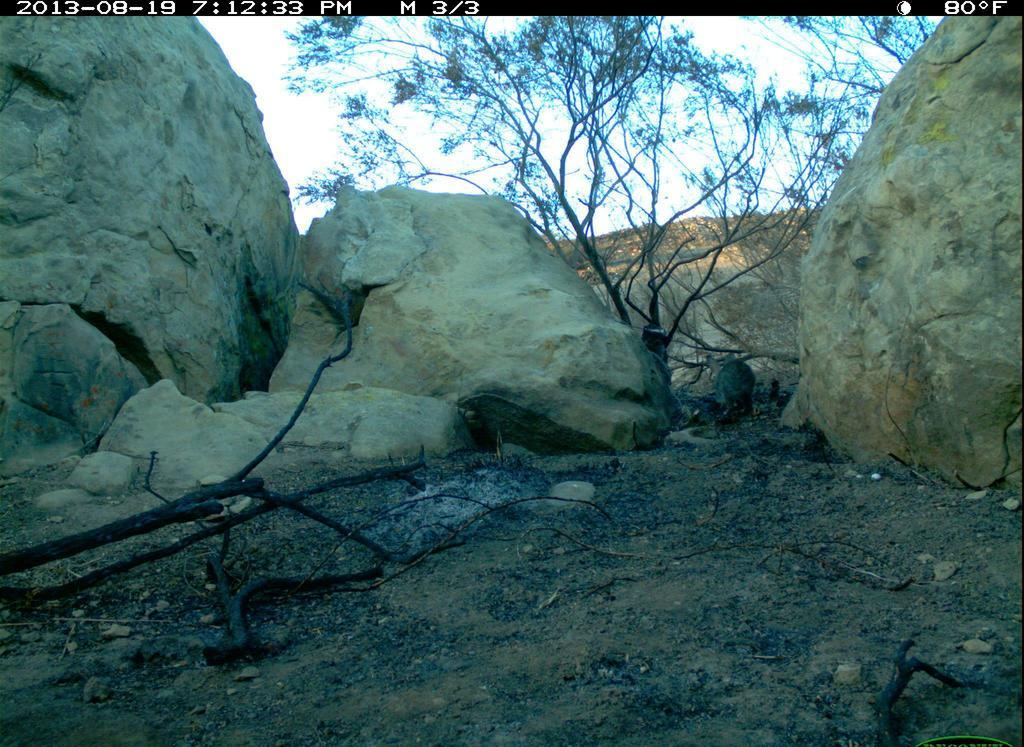rabbit: (697, 347, 769, 428)
